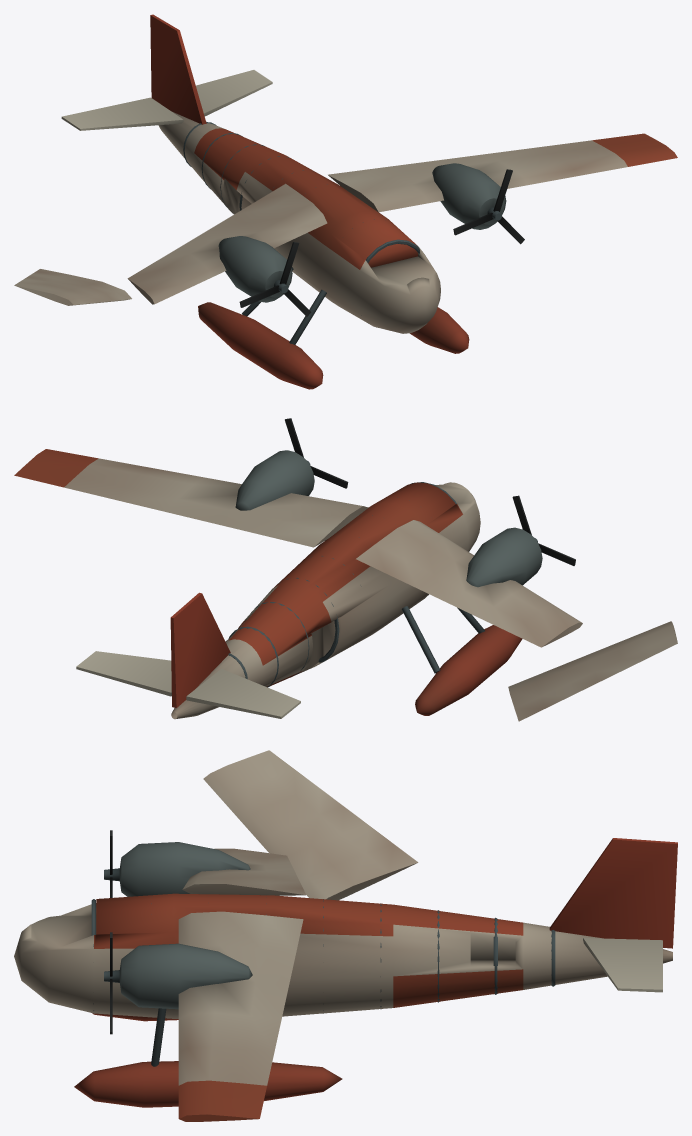
File: kittiwake.glb
3 renders of one model, top to bottom at view 1: azimuth 30°, elevation 25°; view 2: azimuth 150°, elevation 25°; view 3: azimuth 270°, elevation 25°, orthographic. The views are drawn at different scales.
Visible parts, largest first — view 1: kittiwake; view 2: kittiwake; view 3: kittiwake.
Boxes of the visible parts, x1,y1,x2,y2 form: kittiwake: [14, 14, 677, 389]; kittiwake: [14, 418, 677, 721]; kittiwake: [14, 750, 677, 1121].
Size of the model in its own units: 17.59 by 5.06 by 13.3.
